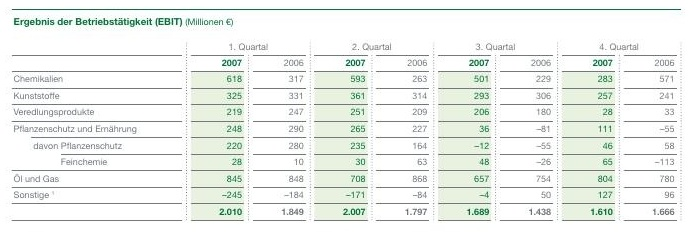table: (0, 0, 692, 232)
